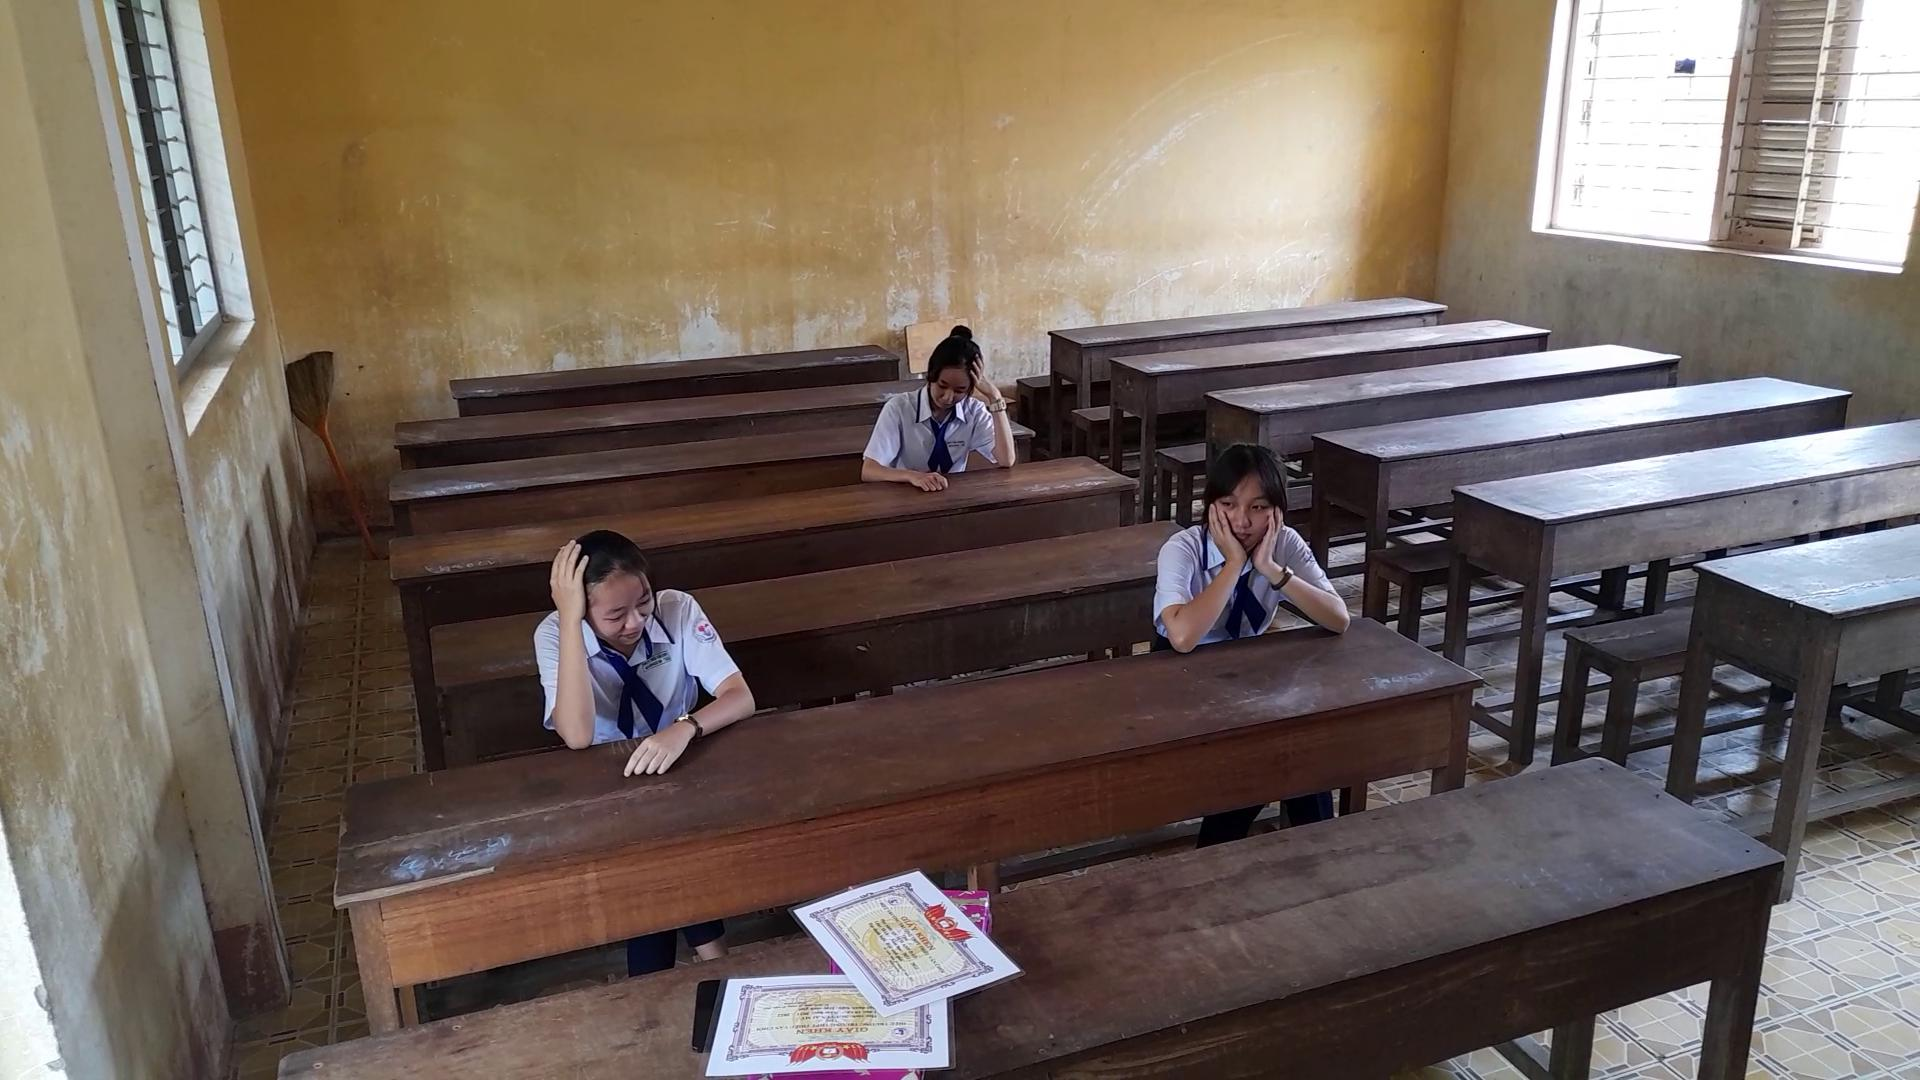Bend Over The Desk: (556, 520, 670, 653), (911, 311, 982, 411)
Wave: (520, 527, 601, 752), (1250, 502, 1364, 640), (1149, 492, 1232, 655), (968, 342, 1019, 469)
